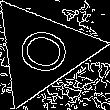O_SE: (7, 21, 76, 81)
